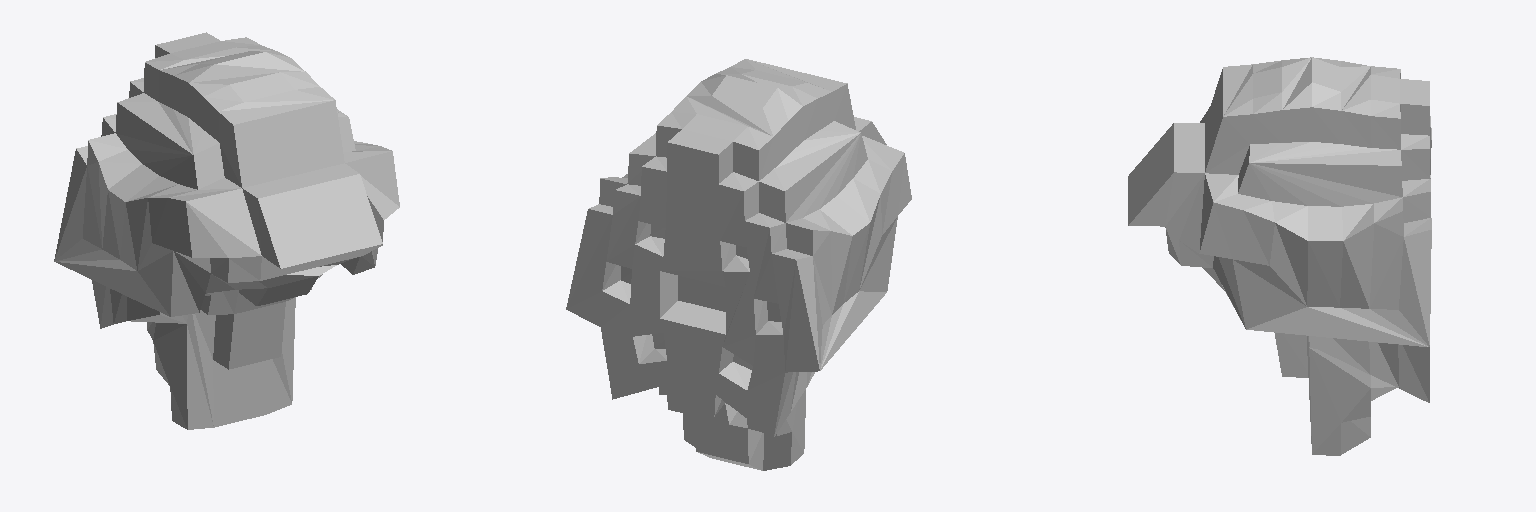
File: Bot1-4.obj
3 views of the same model, side by side, from view 1: azimuth 30°, elevation 25°; view 2: azimuth 150°, elevation 25°; view 3: azimuth 270°, elevation 25° (orthographic).
Visible parts, largest first — view 1: Bot1-4; view 2: Bot1-4; view 3: Bot1-4.
Part boxes in pixels (x1,y1,x2,y2): Bot1-4: (54, 32, 399, 429); Bot1-4: (566, 59, 911, 470); Bot1-4: (1128, 57, 1431, 455).
Size of the model in its own units: 0.994 by 1.39 by 1.03.